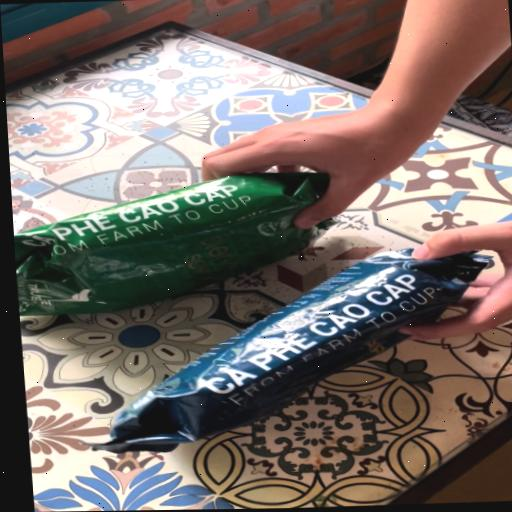cafe_hat: (91, 248, 490, 453)
cafe_xay: (14, 172, 334, 316)
